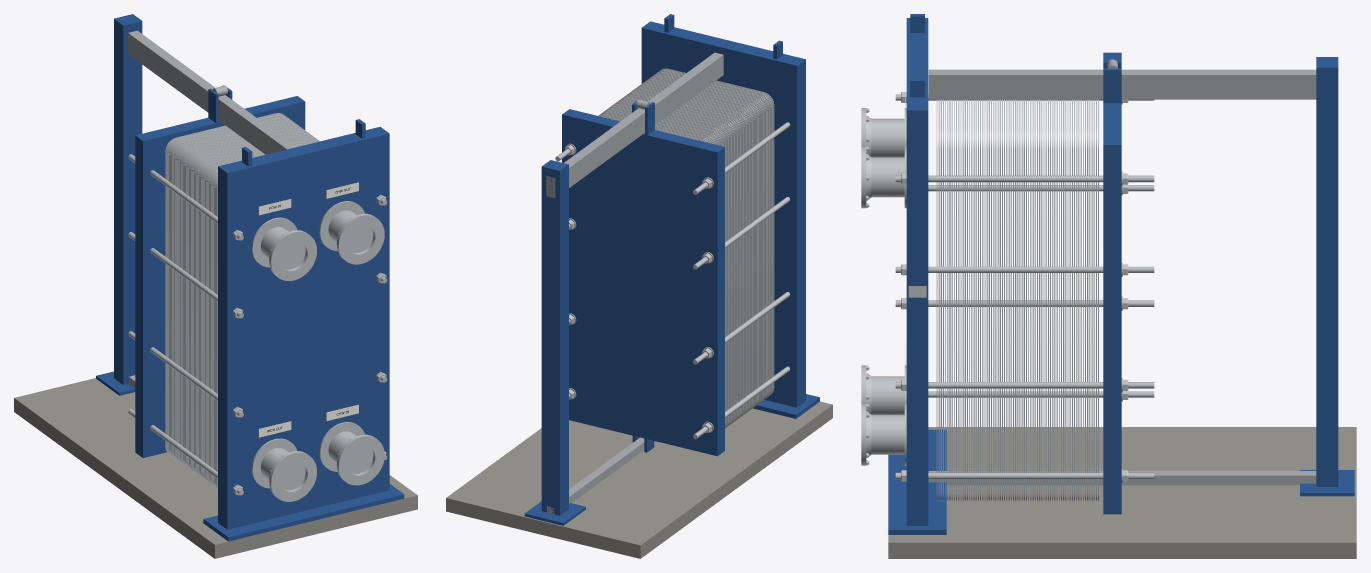
File: phe-pcw.glb
The picture shows the model from 3 angles, left to right: view 1: azimuth 30°, elevation 25°; view 2: azimuth 150°, elevation 25°; view 3: azimuth 270°, elevation 25°; orthographic projection. The views are drawn at different scales.
Parts seen in each view (by area): view 1: HX_FramePlate, HX_PlatePack, HX_Plinth, HX_Ports, HX_Bars, HX_PressurePlate, HX_TighteningBolts; view 2: HX_PressurePlate, HX_Plinth, HX_PlatePack, HX_FramePlate, HX_Bars, HX_TighteningBolts; view 3: HX_PlatePack, HX_Plinth, HX_Bars, HX_FramePlate, HX_TighteningBolts, HX_PressurePlate, HX_Ports.
Boxes of the visible parts, x1,y1,x2,y2 form: HX_FramePlate: (203, 119, 404, 541); HX_PlatePack: (165, 113, 319, 489); HX_Plinth: (14, 378, 417, 558); HX_Ports: (251, 182, 384, 501); HX_Bars: (96, 14, 296, 395); HX_PressurePlate: (135, 85, 305, 457); HX_TighteningBolts: (128, 154, 387, 495); HX_PressurePlate: (562, 99, 724, 456); HX_Plinth: (446, 401, 832, 558); HX_PlatePack: (598, 68, 774, 428); HX_FramePlate: (641, 14, 819, 418); HX_Bars: (524, 52, 723, 525); HX_TighteningBolts: (555, 122, 790, 439); HX_PlatePack: (936, 99, 1098, 501); HX_Plinth: (888, 427, 1356, 558); HX_Bars: (928, 57, 1354, 496); HX_FramePlate: (888, 14, 946, 534); HX_TighteningBolts: (895, 92, 1154, 483); HX_PressurePlate: (1103, 52, 1121, 514); HX_Ports: (861, 83, 906, 465).
Bounding box in the file's own units: 1.5 × 2.75 × 2.72.
